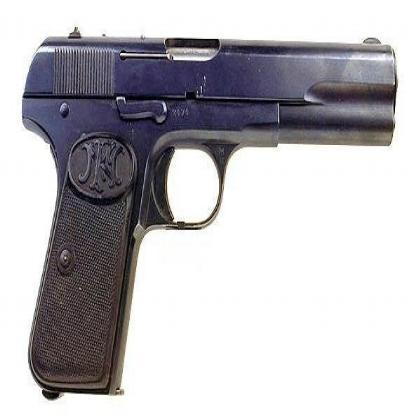gun: (7, 10, 414, 397)
